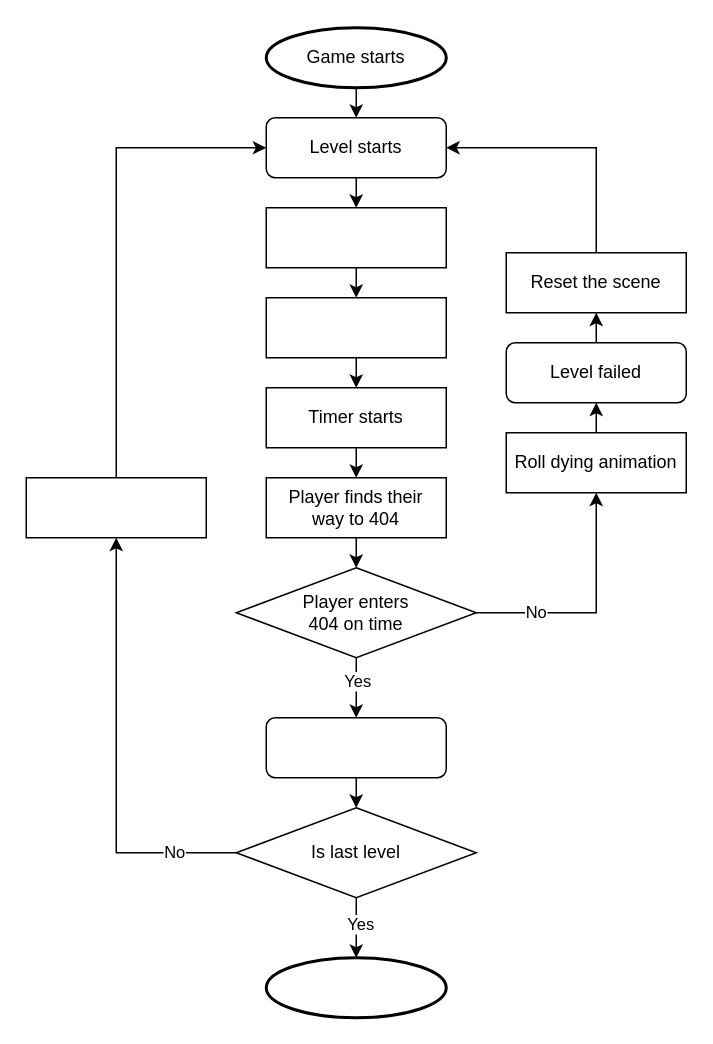
The diagram is 713 pixels wide and 1044 high, and some of its shapes have lost their labels. Here are the shapes that lost their labels. From the top down, the centre of each, then its label:
(355,237): Class-dismissing bell rings
(355,327): Notification pops up
(115,507): Advance to the next level
(355,747): Level passes
(355,987): Game finishes
